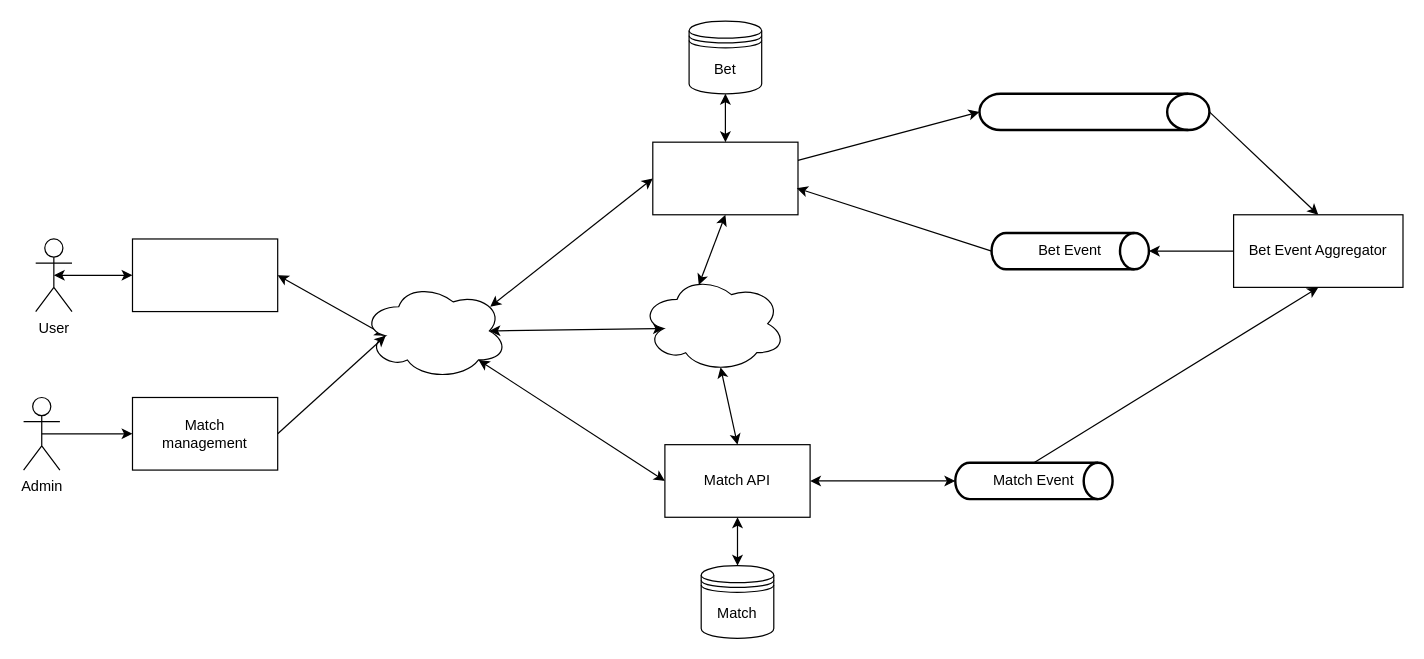
Some shapes in this 1424 by 659 pixel diagram are drawn without their labels. Here are the shapes that lost their labels. From the top down, the box of each, then its label:
(978, 92, 1210, 131): Bet Request Event
(652, 141, 798, 215): Bet API
(131, 238, 278, 312): Customer Frontend
(361, 281, 508, 379): API Gateway
(639, 274, 786, 372): Eureka
